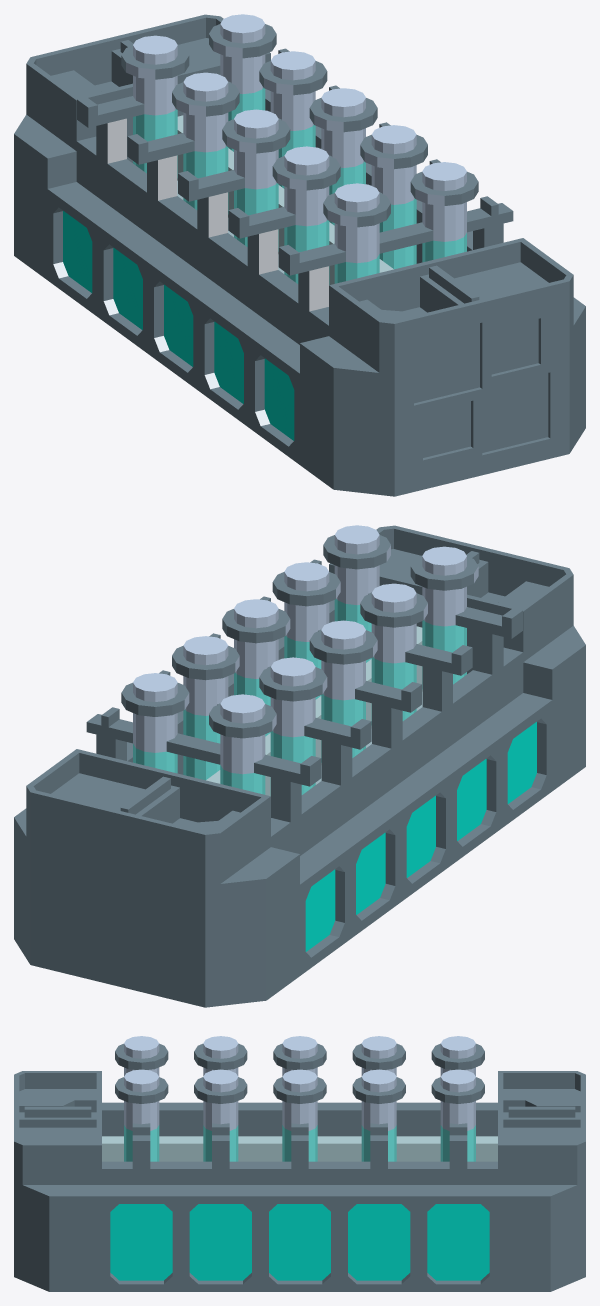
File: flask set.fbx
3 views of the same model, one above another, from view 1: azimuth 30°, elevation 25°; view 2: azimuth 150°, elevation 25°; view 3: azimuth 270°, elevation 25° (orthographic). The views are drawn at different scales.
Parts seen in each view (by area): view 1: flask set; view 2: flask set; view 3: flask set.
Part boxes in pixels (x1,y1,x2,y2): flask set: (14, 14, 585, 496); flask set: (14, 525, 585, 1007); flask set: (14, 1036, 585, 1291).
Bounding box in the file's own units: 13 × 11.5 × 32.5.
